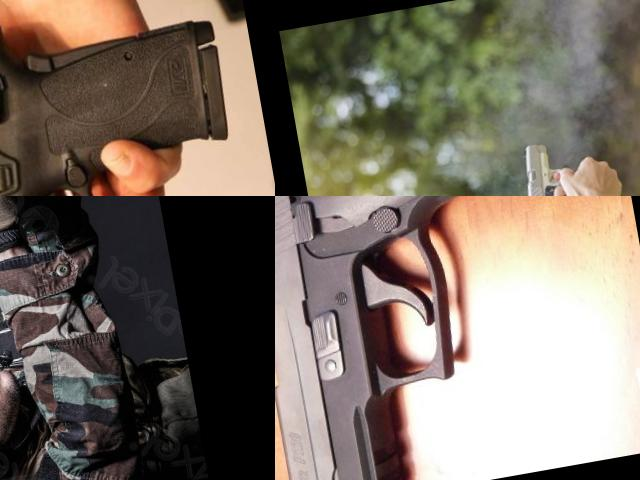handgun: (275, 196, 640, 480), (0, 0, 275, 196), (511, 134, 585, 196), (0, 196, 45, 243)
